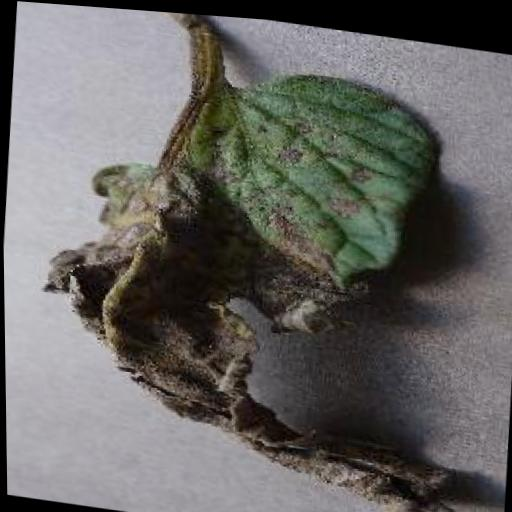Early Blight: (29, 37, 503, 512)
